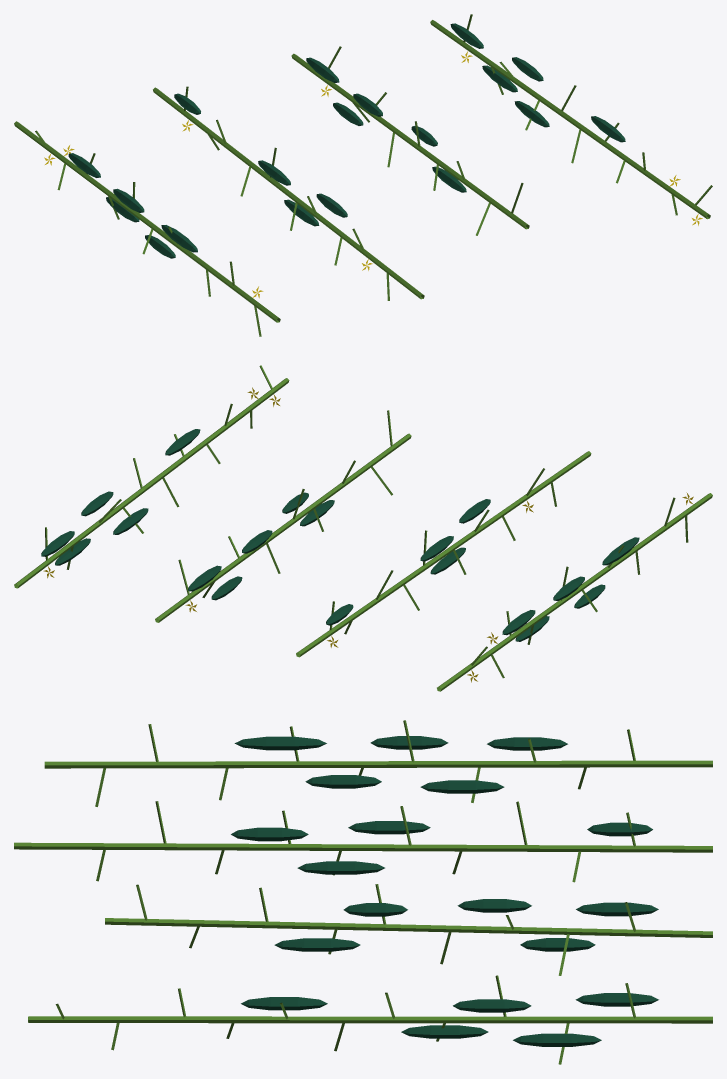
File: r7c4_stems.obj
3 views of the same model, one above another, from view 1: azimuth 30°, elevation 25°; view 2: azimuth 150°, elevation 25°; view 3: azimuth 270°, elevation 25° (orthographic). The views are drawn at different scales.
Visible parts, largest first — view 1: r7c4_stems; view 2: r7c4_stems; view 3: r7c4_stems.
Boxes of the visible parts, x1=… form: r7c4_stems: x1=14, y1=14, x2=712, y2=336; r7c4_stems: x1=14, y1=365, x2=712, y2=691; r7c4_stems: x1=14, y1=720, x2=712, y2=1064.
Size of the model in its own units: 2.04 by 0.3187 by 2.16.
